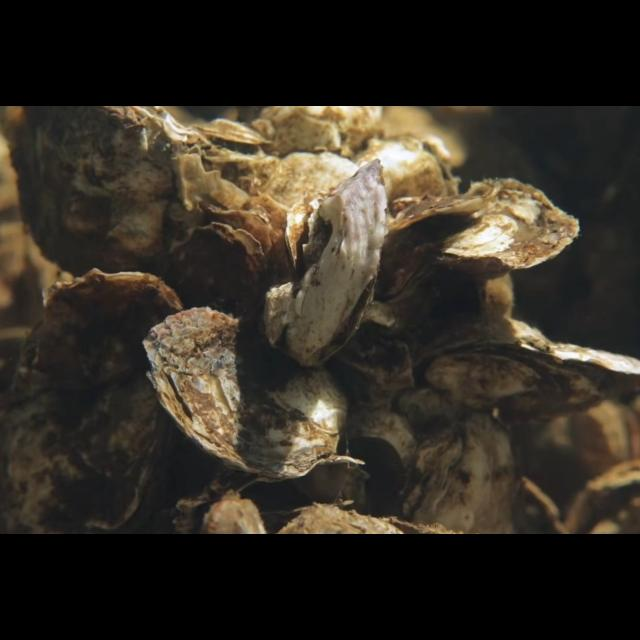Oyster-Closed: (4, 267, 184, 535), (6, 106, 220, 288), (141, 306, 353, 482), (262, 158, 388, 368), (383, 178, 581, 304), (394, 411, 522, 535), (169, 222, 269, 324)
Oyster-Open: (410, 316, 640, 426), (232, 457, 366, 535)
